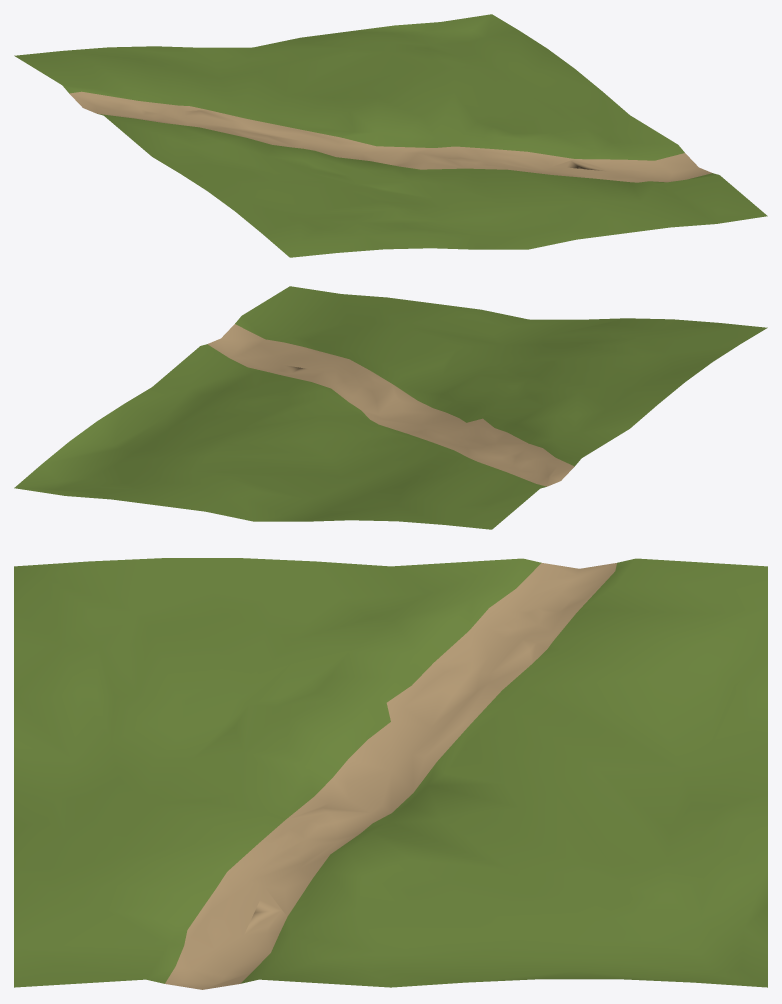
The model's file is rpgpp_ag_terrain_path_10_20x20m_slope_2-1m.fbx.
3 views of the same model, one above another, from view 1: azimuth 30°, elevation 25°; view 2: azimuth 150°, elevation 25°; view 3: azimuth 270°, elevation 25° (orthographic). The views are drawn at different scales.
Parts seen in each view (by area): view 1: rpgpp_ag_terrain_path_10_20x20m_slope_2-1m; view 2: rpgpp_ag_terrain_path_10_20x20m_slope_2-1m; view 3: rpgpp_ag_terrain_path_10_20x20m_slope_2-1m.
Boxes of the visible parts, <box> form: rpgpp_ag_terrain_path_10_20x20m_slope_2-1m: <box>14,14,767,257</box>; rpgpp_ag_terrain_path_10_20x20m_slope_2-1m: <box>14,286,767,529</box>; rpgpp_ag_terrain_path_10_20x20m_slope_2-1m: <box>14,558,767,989</box>.
Bounding box in the file's own units: 20 × 3.51 × 20.
